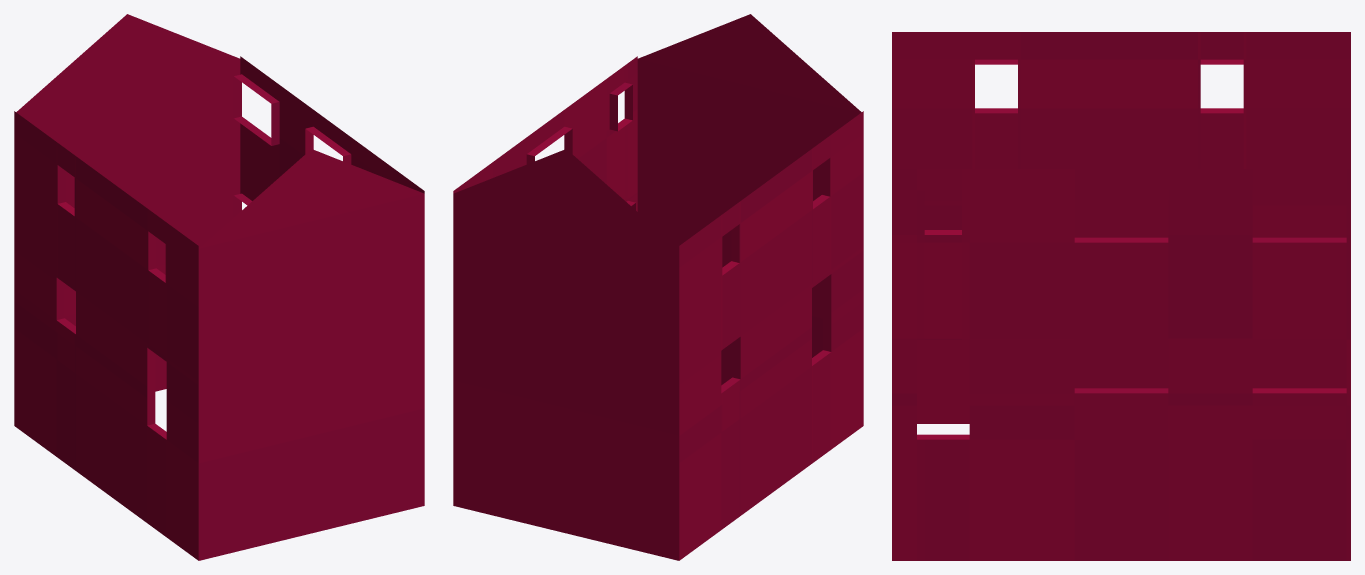
File: SM_Bld_220_Masonry.glb
3 views of the same model, side by side, from view 1: azimuth 30°, elevation 25°; view 2: azimuth 150°, elevation 25°; view 3: azimuth 270°, elevation 25° (orthographic). The views are drawn at different scales.
Visible parts, largest first — view 1: SM_Bld_220_Masonry; view 2: SM_Bld_220_Masonry; view 3: SM_Bld_220_Masonry.
Part boxes in pixels (<box>): SM_Bld_220_Masonry: <box>14,14,424,560</box>; SM_Bld_220_Masonry: <box>453,14,863,560</box>; SM_Bld_220_Masonry: <box>892,32,1350,560</box>.
Size of the model in its own units: 6.05 by 9.85 by 8.56.
